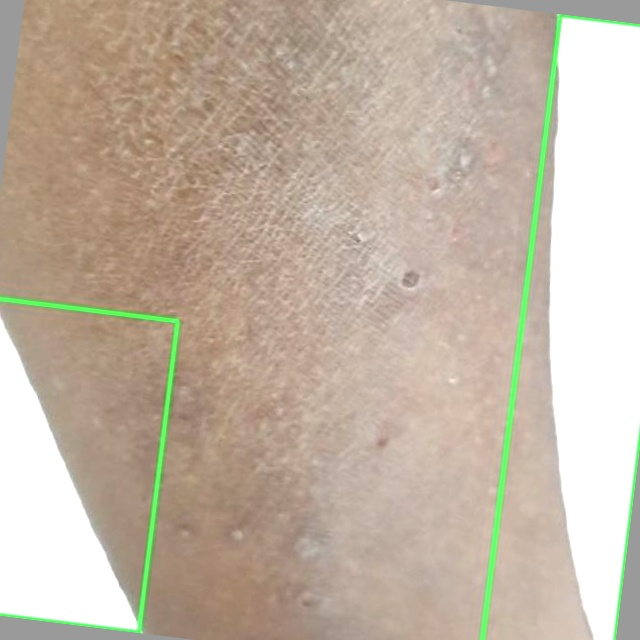Contact Dermatitis: (482, 15, 639, 639), (0, 298, 177, 632)
